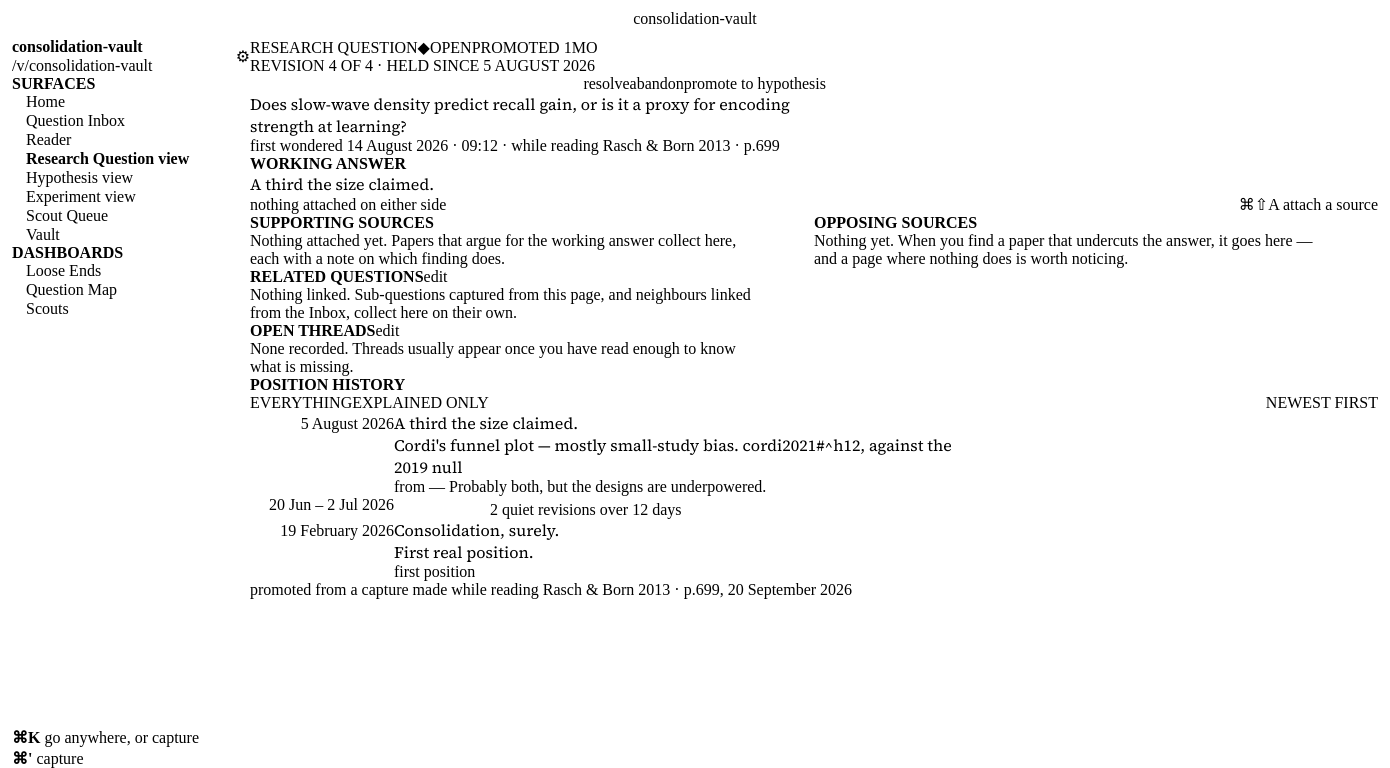
Test: the position history › collapses a run of quiet Revisions into a count and a span that expands on demand
This screenshot has width=1390, height=768.
Expected: the element "Position history" does not show "Mostly consolidation."
Click the button "2 quiet revisions over 12 days". click: (682, 510)
box: [394,500,970,518]
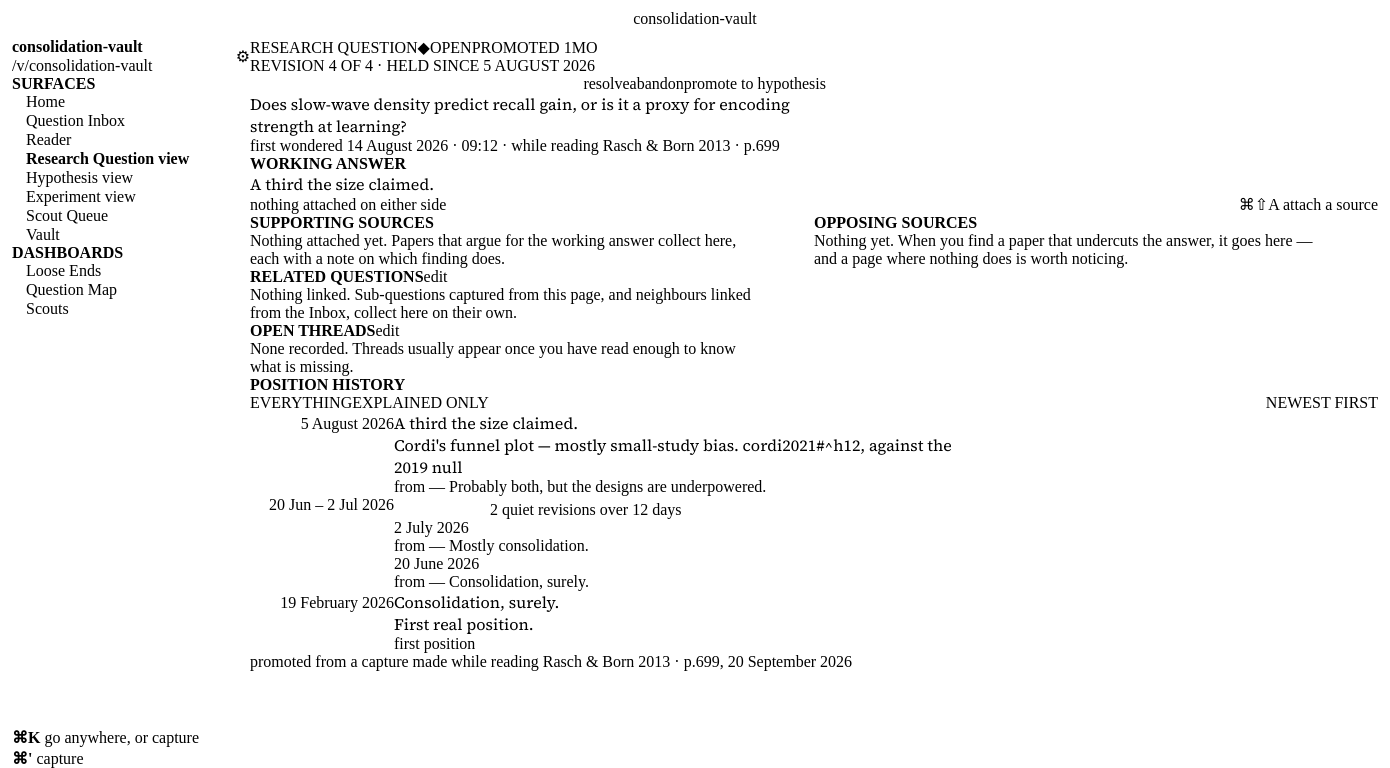
Now the element "Position history" shows "2 July 2026", box [394,518,469,536]
Now the element "Position history" shows "from — Mostly consolidation.", box [394,536,589,554]
